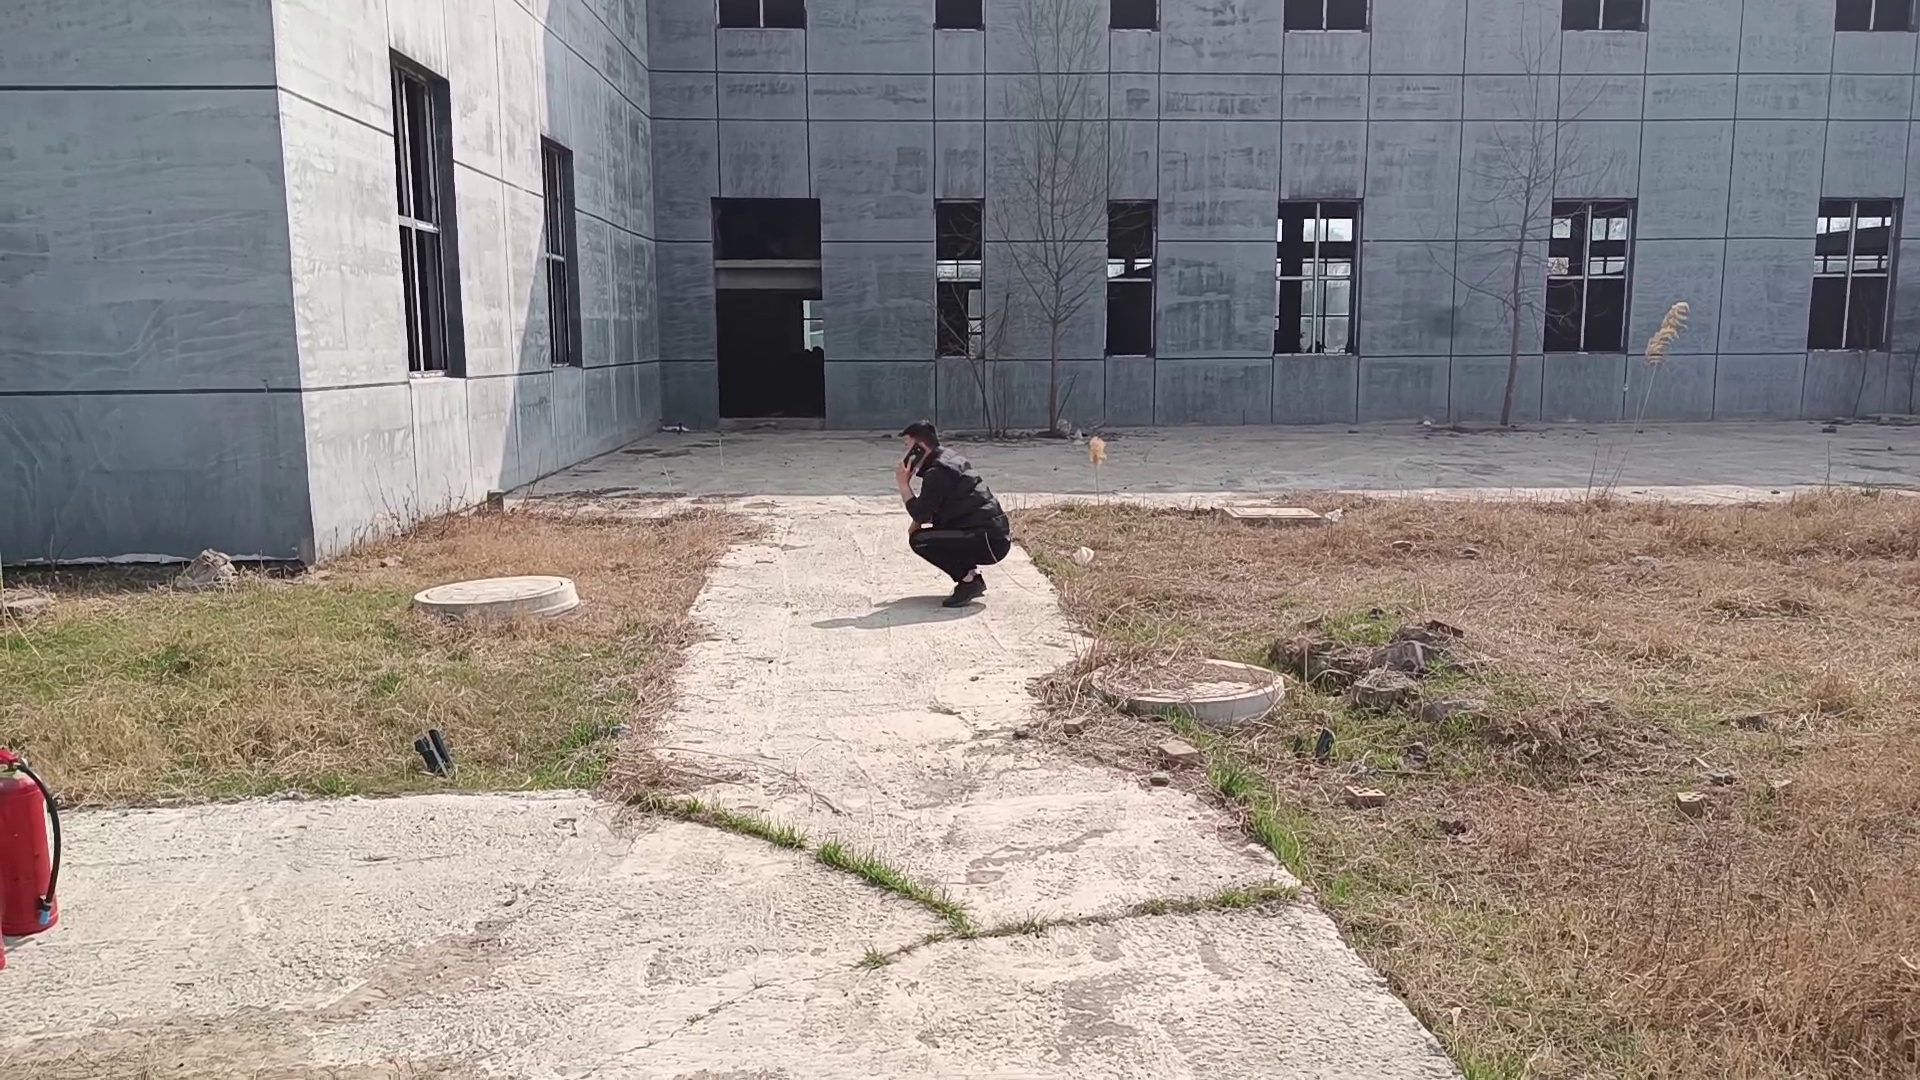phone: (895, 411, 944, 489)
